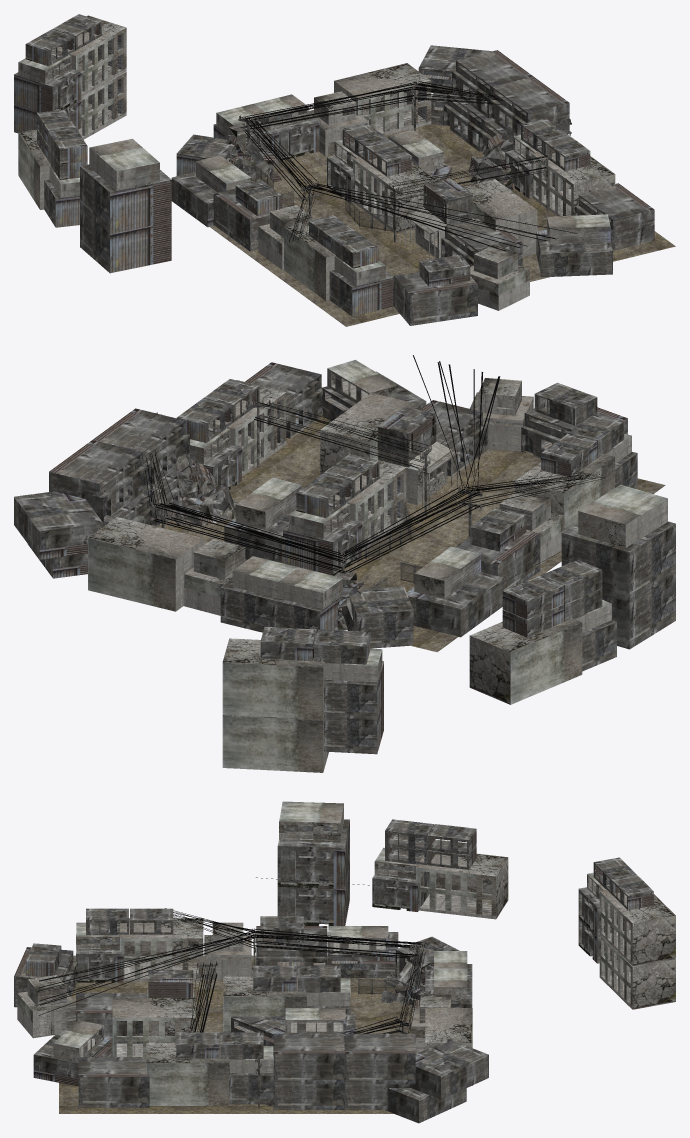
The model's file is abandoned_city_street.glb.
3 renders of one model, top to bottom at view 1: azimuth 30°, elevation 25°; view 2: azimuth 150°, elevation 25°; view 3: azimuth 270°, elevation 25°, orthographic. The views are drawn at different scales.
Visible parts, largest first — view 1: Plane.002, Cube.039, Cube.059, Cube.061, Cube.026, Cube.042, Cube.022, Cube.014, Cube.032, Cube.015, Cube.044, Cube.047 (+54 smaller); view 2: Plane.002, Cube.039, Cube.052, Cube.047, Cube.067, Cube.059, Cube.023, Cube.041, Cube.060, Cube.005, Cube.022, Cube.032 (+56 smaller); view 3: Plane.002, Cube.052, Cube.015, Cube, Cube.047, Cube.059, Cube.022, Cube.023, Cube.014, Cube.032, Cube.041, Cube.067 (+53 smaller).
Boxes of the visible parts, x1,y1,x2,y2 form: Plane.002: (209, 124, 675, 326); Cube.039: (334, 63, 431, 135); Cube.059: (80, 164, 171, 233); Cube.061: (80, 205, 171, 273); Cube.026: (353, 157, 436, 232); Cube.042: (393, 272, 477, 325); Cube.022: (488, 76, 569, 135); Cube.014: (575, 183, 654, 250); Cube.032: (462, 179, 537, 256); Cube.015: (531, 151, 615, 216); Cube.044: (470, 244, 529, 310); Cube.047: (54, 15, 126, 96); Plane.002: (158, 416, 665, 652); Cube.039: (88, 517, 204, 611); Cube.052: (469, 618, 582, 704); Cube.047: (222, 638, 325, 719); Cube.067: (222, 715, 328, 772); Cube.059: (561, 521, 675, 602); Cube.023: (49, 440, 146, 522); Cube.041: (14, 491, 103, 559); Cube.060: (578, 484, 667, 547); Cube.005: (406, 572, 503, 637); Cube.022: (92, 408, 189, 489); Cube.032: (320, 393, 420, 474); Plane.002: (59, 955, 418, 1113); Cube.052: (416, 853, 508, 919); Cube.015: (146, 1043, 229, 1105); Cube: (120, 918, 203, 980); Cube.047: (599, 890, 675, 966); Cube.059: (277, 819, 349, 888); Cube.022: (273, 1033, 344, 1084); Cube.023: (345, 1033, 415, 1084); Cube.014: (78, 1057, 149, 1107); Cube.032: (112, 997, 195, 1056); Cube.041: (409, 1039, 488, 1099); Cube.067: (599, 936, 675, 1009).
Size of the model in its own units: 22.76 by 5.51 by 28.
6 materials, 5 textured.
